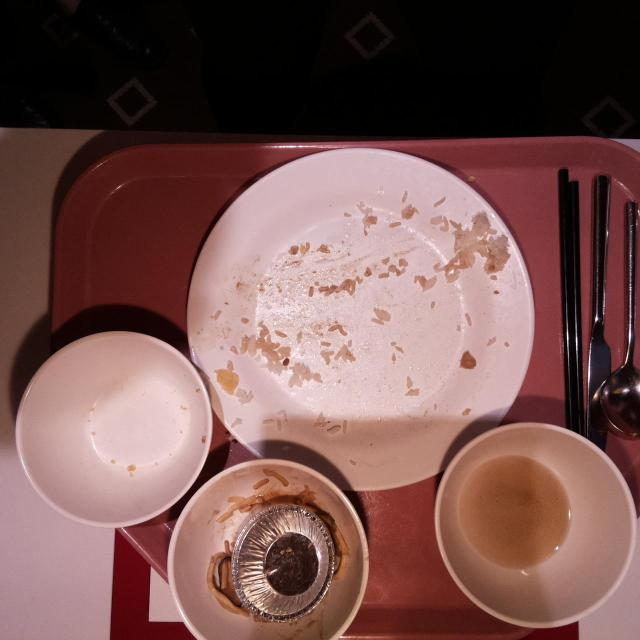Rice: (450, 208, 510, 276), (242, 332, 290, 374), (290, 361, 323, 389)
